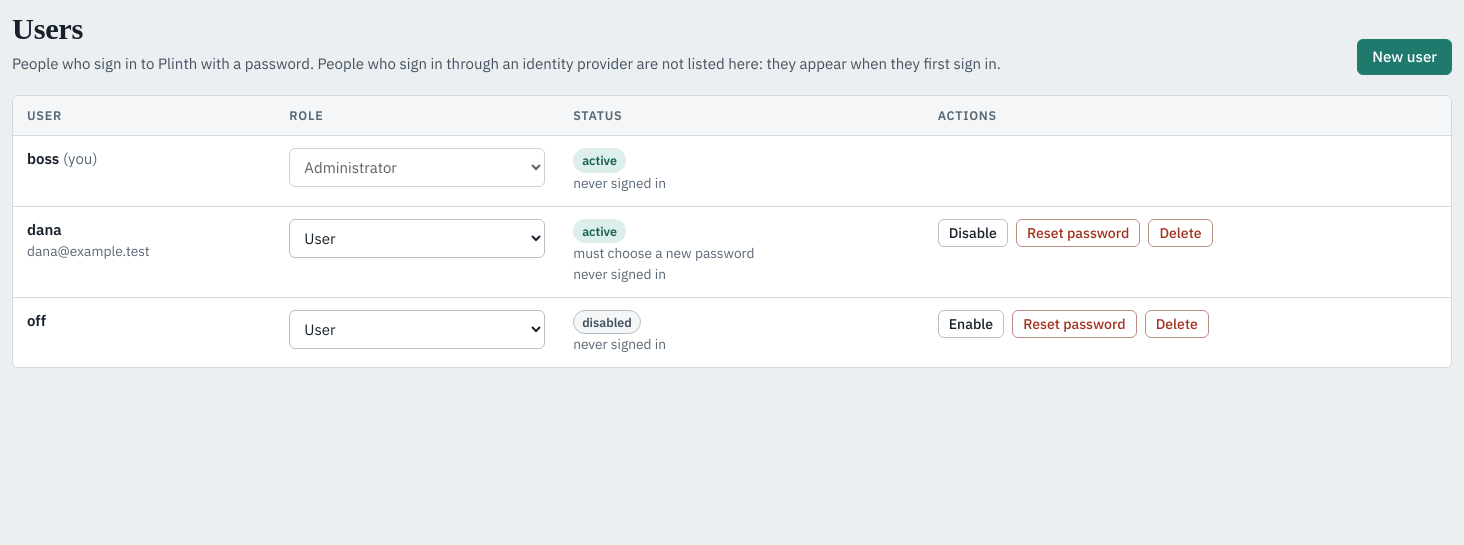
Test: users page › resets a password after confirmation and shows the new one once
Click the button "Reset password" in the row of "dana@example.test" at (1078,233), box [1016,218,1140,247]
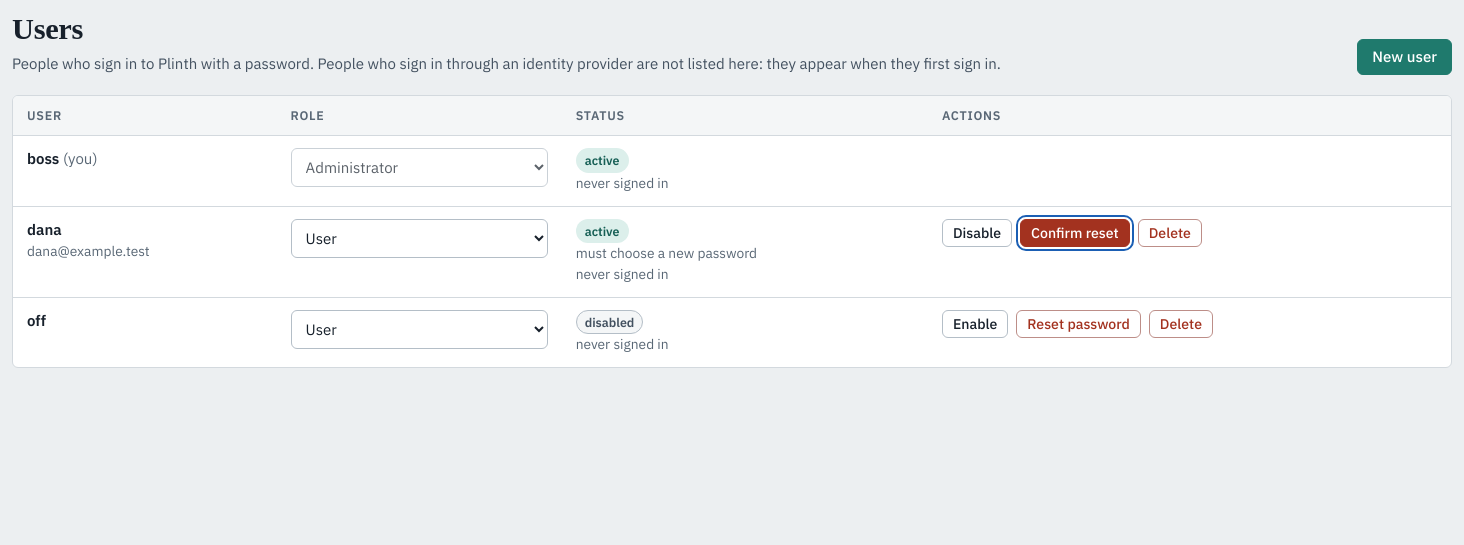
Click the button "Confirm reset" at (1075,233), box [1020,218,1130,247]
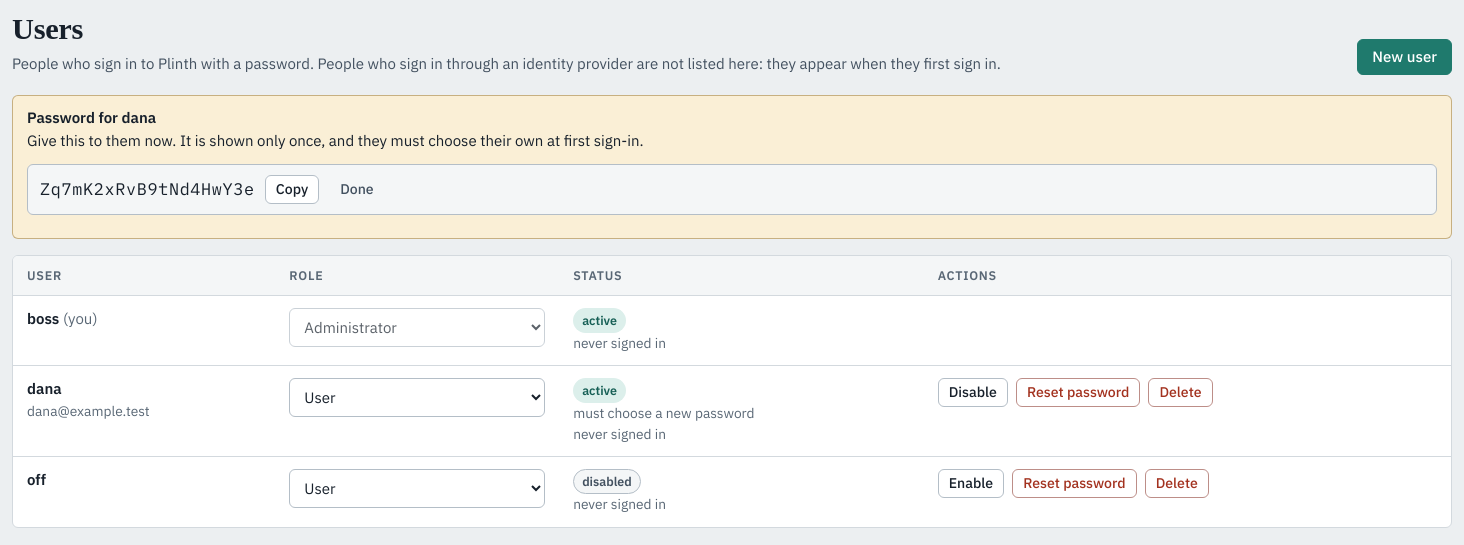
Check: the text "Zq7mK2xRvB9tNd4HwY3e" is shown, box [40,177,255,202]
Check: the text "Password for dana" is shown, box [27,108,156,128]
